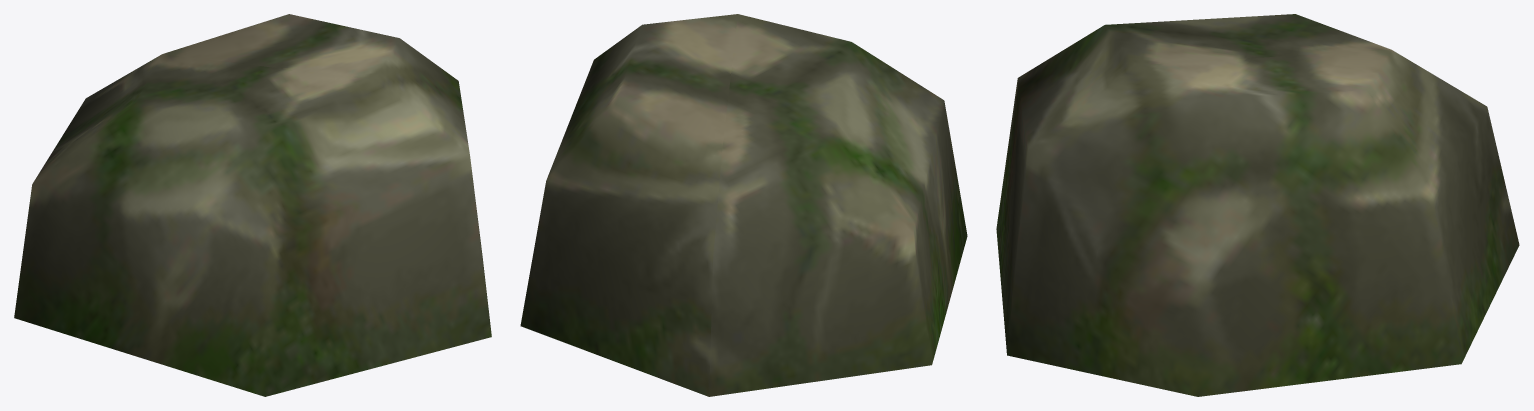
The model's file is RockFormation_4_6.fbx.
3 renders of one model, left to right at view 1: azimuth 30°, elevation 25°; view 2: azimuth 150°, elevation 25°; view 3: azimuth 270°, elevation 25°, orthographic. The views are drawn at different scales.
Visible parts, largest first — view 1: RockFormation_4_6; view 2: RockFormation_4_6; view 3: RockFormation_4_6.
Boxes of the visible parts, bbox=[...] form: RockFormation_4_6: bbox=[14, 14, 491, 396]; RockFormation_4_6: bbox=[520, 14, 967, 396]; RockFormation_4_6: bbox=[996, 14, 1519, 396].
Size of the model in its own units: 60.81 by 32.24 by 59.28.
